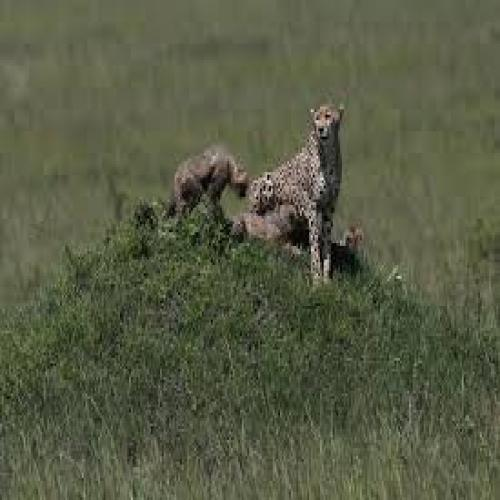cheetah-endangered: (250, 105, 345, 285), (169, 147, 246, 210), (232, 200, 301, 240), (323, 224, 364, 266)
